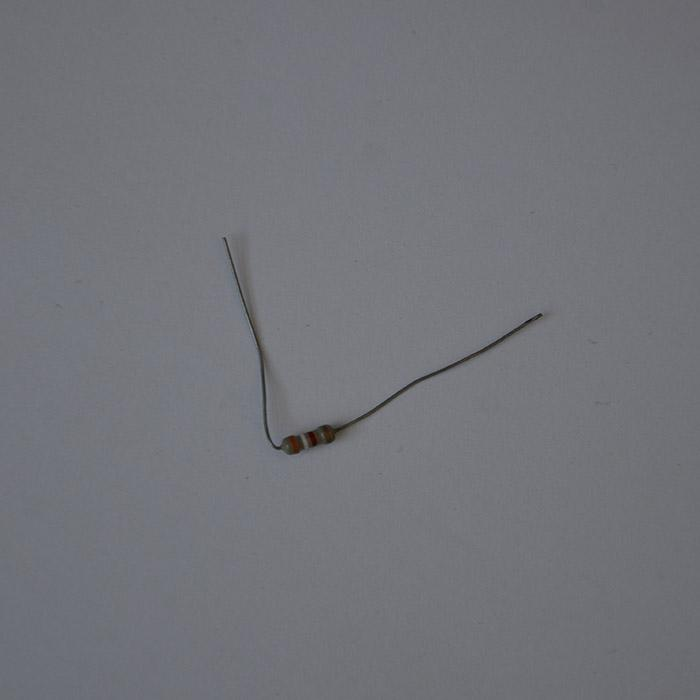resistor: (280, 423, 336, 453)
